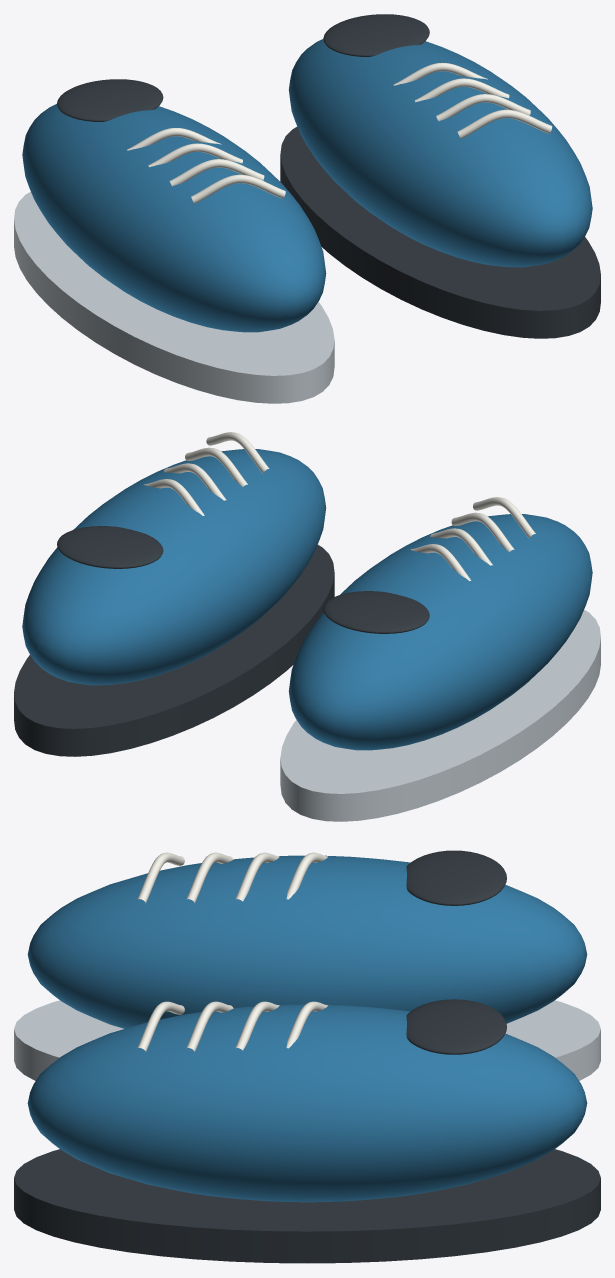
Rendered from curling-club-and-ice-maintenance-slider-shoe-pair-929ced8c__31271.glb.
3 views of the same model, one above another, from view 1: azimuth 30°, elevation 25°; view 2: azimuth 150°, elevation 25°; view 3: azimuth 270°, elevation 25° (orthographic). The views are drawn at different scales.
Visible parts, largest first — view 1: slider-shoe-pair; view 2: slider-shoe-pair; view 3: slider-shoe-pair.
Part boxes in pixels (left/top/right/bottom): slider-shoe-pair: left=14, top=14, right=600, bottom=403; slider-shoe-pair: left=14, top=432, right=600, bottom=821; slider-shoe-pair: left=14, top=850, right=600, bottom=1263.
Size of the model in its own units: 0.31 by 0.1155 by 0.3.
